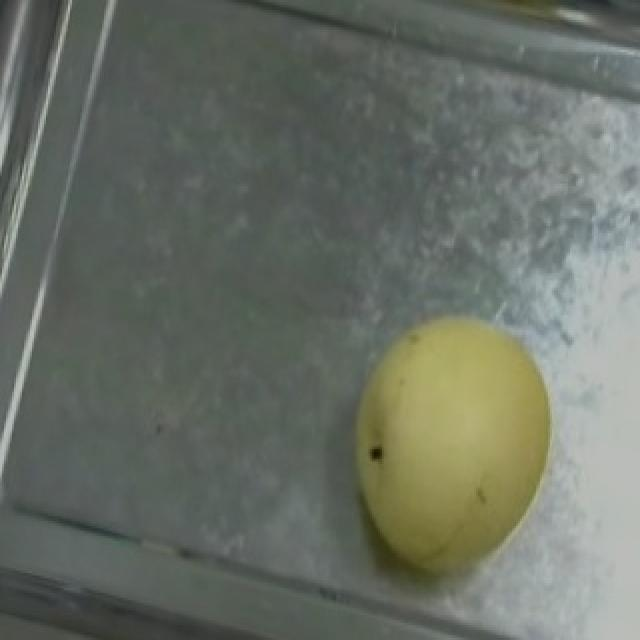Fruit: (308, 285, 580, 603)
